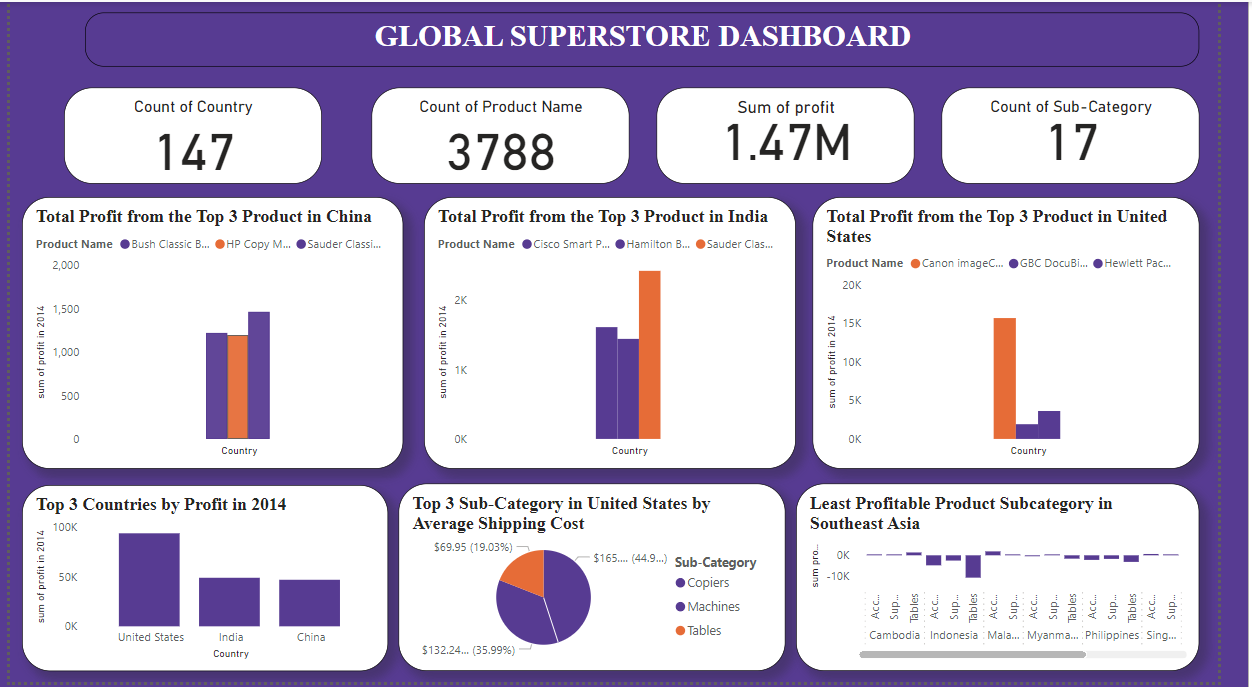

What the dashboard file says about the page in this screenshot:
{"tool":"powerbi","page":{"name":"Page 1","canvas":[1280,720],"ordinal":0},"visuals":[{"type":"clusteredColumnChart","title":"Top 3 Countries by Profit in 2014","fields":{"Y":["GlobalSuperstore - Capstone1.sum of profit in 2014"],"Category":["GlobalSuperstore - Capstone1.Country"]},"box":[12.7,511.8,387.8,197.1],"z":0},{"type":"clusteredColumnChart","title":"Total Profit from the Top 3 Product in United States","fields":{"Category":["GlobalSuperstore - Capstone1.Country"],"Y":["GlobalSuperstore - Capstone1.sum of profit in 2014"],"Series":["GlobalSuperstore - Capstone1.Product Name"]},"box":[850.3,206.6,410.1,287.7],"z":1000},{"type":"clusteredColumnChart","title":"Total Profit from the Top 3 Product in India","fields":{"Category":["GlobalSuperstore - Capstone1.Country"],"Y":["GlobalSuperstore - Capstone1.sum of profit in 2014"],"Series":["GlobalSuperstore - Capstone1.Product Name"]},"box":[438.7,206.6,394.2,287.7],"z":2000},{"type":"clusteredColumnChart","title":"Total Profit from the Top 3 Product in China","fields":{"Category":["GlobalSuperstore - Capstone1.Country"],"Y":["GlobalSuperstore - Capstone1.sum of profit in 2014"],"Series":["GlobalSuperstore - Capstone1.Product Name"]},"box":[12.7,206.6,403.7,287.7],"z":3000},{"type":"pieChart","title":" Top 3  Sub-Category in United States by Average Shipping Cost","fields":{"Category":["GlobalSuperstore - Capstone1.Sub-Category"],"Y":["Avg(GlobalSuperstore - Capstone1.Shipping Cost)"],"Series":["GlobalSuperstore - Capstone1.Country"]},"box":[411.7,510.2,410.1,198.7],"z":4000},{"type":"textbox","title":"GLOBAL SUPERSTONE DASHBOARD","box":[79.5,11.1,1180.9,57.2],"z":5000},{"type":"card","title":"Count of Country","fields":{"Values":["Count(GlobalSuperstore - Capstone1.Country)"]},"box":[57.2,90.6,273,101.7],"z":6000},{"type":"card","title":"Count of Product Name","fields":{"Values":["Count(GlobalSuperstore - Capstone1.Product Name)"]},"box":[383,90.6,273,101.7],"z":7000},{"type":"card","title":"Count of Sub-Category","fields":{"Values":["Count(GlobalSuperstore - Capstone1.Sub-Category)"]},"box":[987,90.6,273.4,101.7],"z":8000},{"type":"clusteredColumnChart","title":"Least Profitable Product Subcategory in Southeast Asia","fields":{"Category":["GlobalSuperstore - Capstone1.Country","GlobalSuperstore - Capstone1.Sub-Category"],"Y":["GlobalSuperstore - Capstone1.sum profit of southeast asia"]},"box":[832.8,510.2,427.5,198.7],"z":9000},{"type":"card","title":"Sum of profit","fields":{"Values":["Sum(GlobalSuperstore - Capstone1.Profit)"]},"box":[685,90.6,273.4,101.7],"z":10000}]}

Visuals, with their boxes in screenshot pixels (x1, y1, x2, y2), scaled from the page's 1280x720 canvas onto the 1252x687 screenshot:
"Top 3 Countries by Profit in 2014" clusteredColumnChart: <bbox>12, 488, 392, 676</bbox>
"Total Profit from the Top 3 Product in United States" clusteredColumnChart: <bbox>832, 197, 1233, 472</bbox>
"Total Profit from the Top 3 Product in India" clusteredColumnChart: <bbox>429, 197, 815, 472</bbox>
"Total Profit from the Top 3 Product in China" clusteredColumnChart: <bbox>12, 197, 407, 472</bbox>
" Top 3  Sub-Category in United States by Average Shipping Cost" pieChart: <bbox>403, 487, 804, 676</bbox>
"GLOBAL SUPERSTONE DASHBOARD" textbox: <bbox>78, 11, 1233, 65</bbox>
"Count of Country" card: <bbox>56, 86, 323, 183</bbox>
"Count of Product Name" card: <bbox>375, 86, 642, 183</bbox>
"Count of Sub-Category" card: <bbox>965, 86, 1233, 183</bbox>
"Least Profitable Product Subcategory in Southeast Asia" clusteredColumnChart: <bbox>815, 487, 1233, 676</bbox>
"Sum of profit" card: <bbox>670, 86, 937, 183</bbox>
